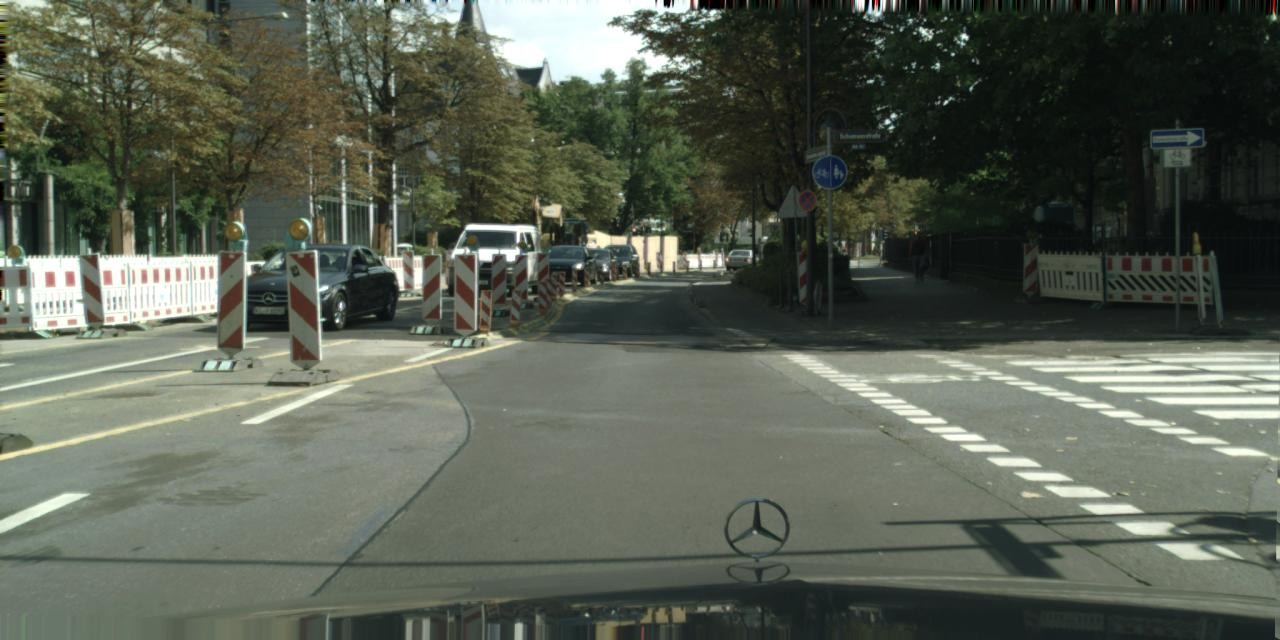ped: (908, 231, 928, 283)
